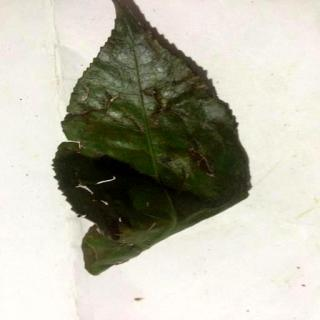Red Leaf Spot: (52, 1, 250, 277)
